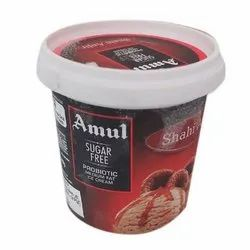Amul: (69, 111, 134, 141)
